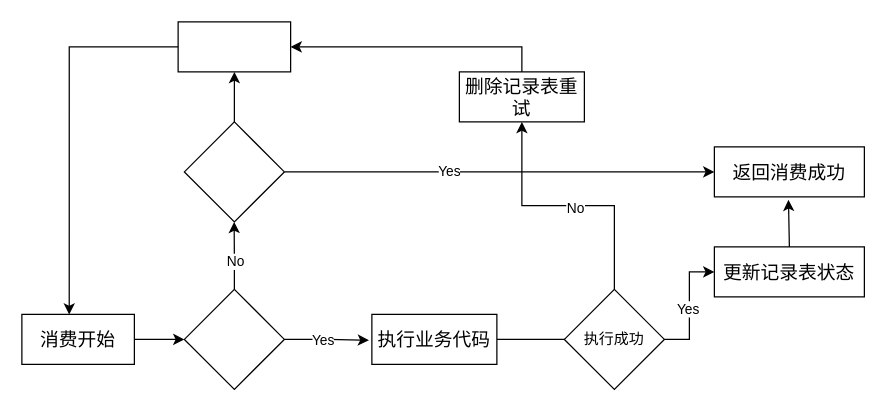
The diagram is 886 pixels wide and 411 high, and some of its shapes have lost their labels. Here are the shapes that lost their labels. From the top down, the box of each, then its label:
(177, 21, 291, 72): 延迟消息
(183, 121, 284, 222): 检查状态 是否完成
(183, 288, 284, 389): 插入记录表 判断是否为空
